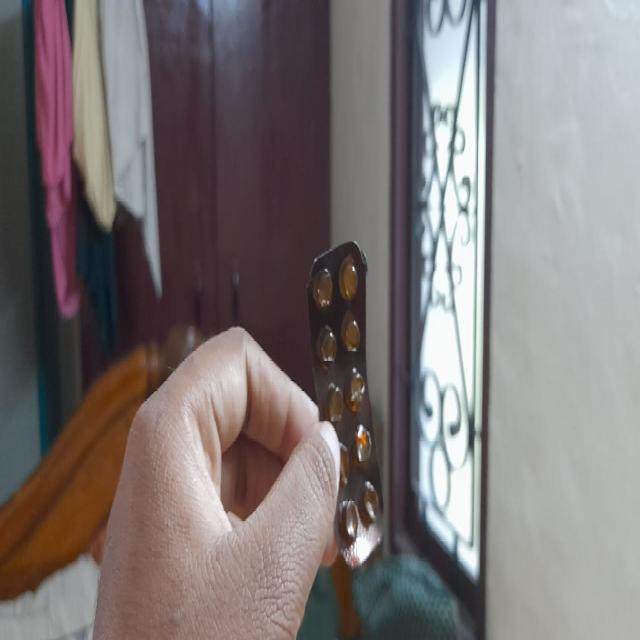Blister_Packs - Non Recyclable: (304, 237, 386, 573)
